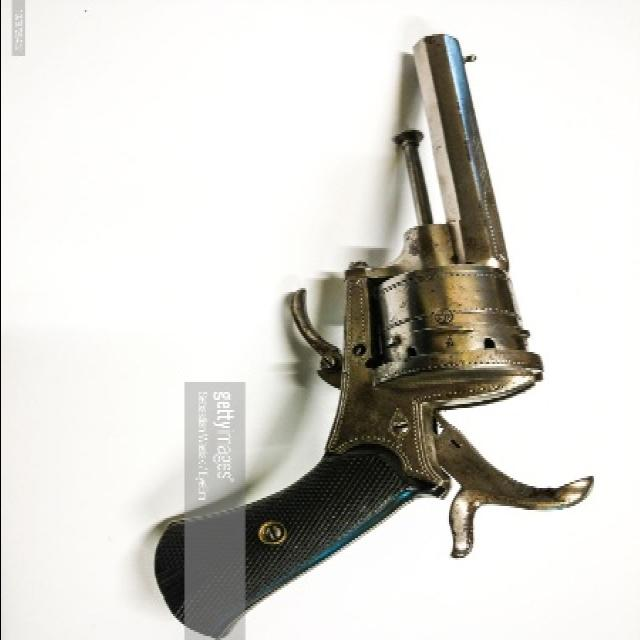handgun: (156, 31, 606, 639)
